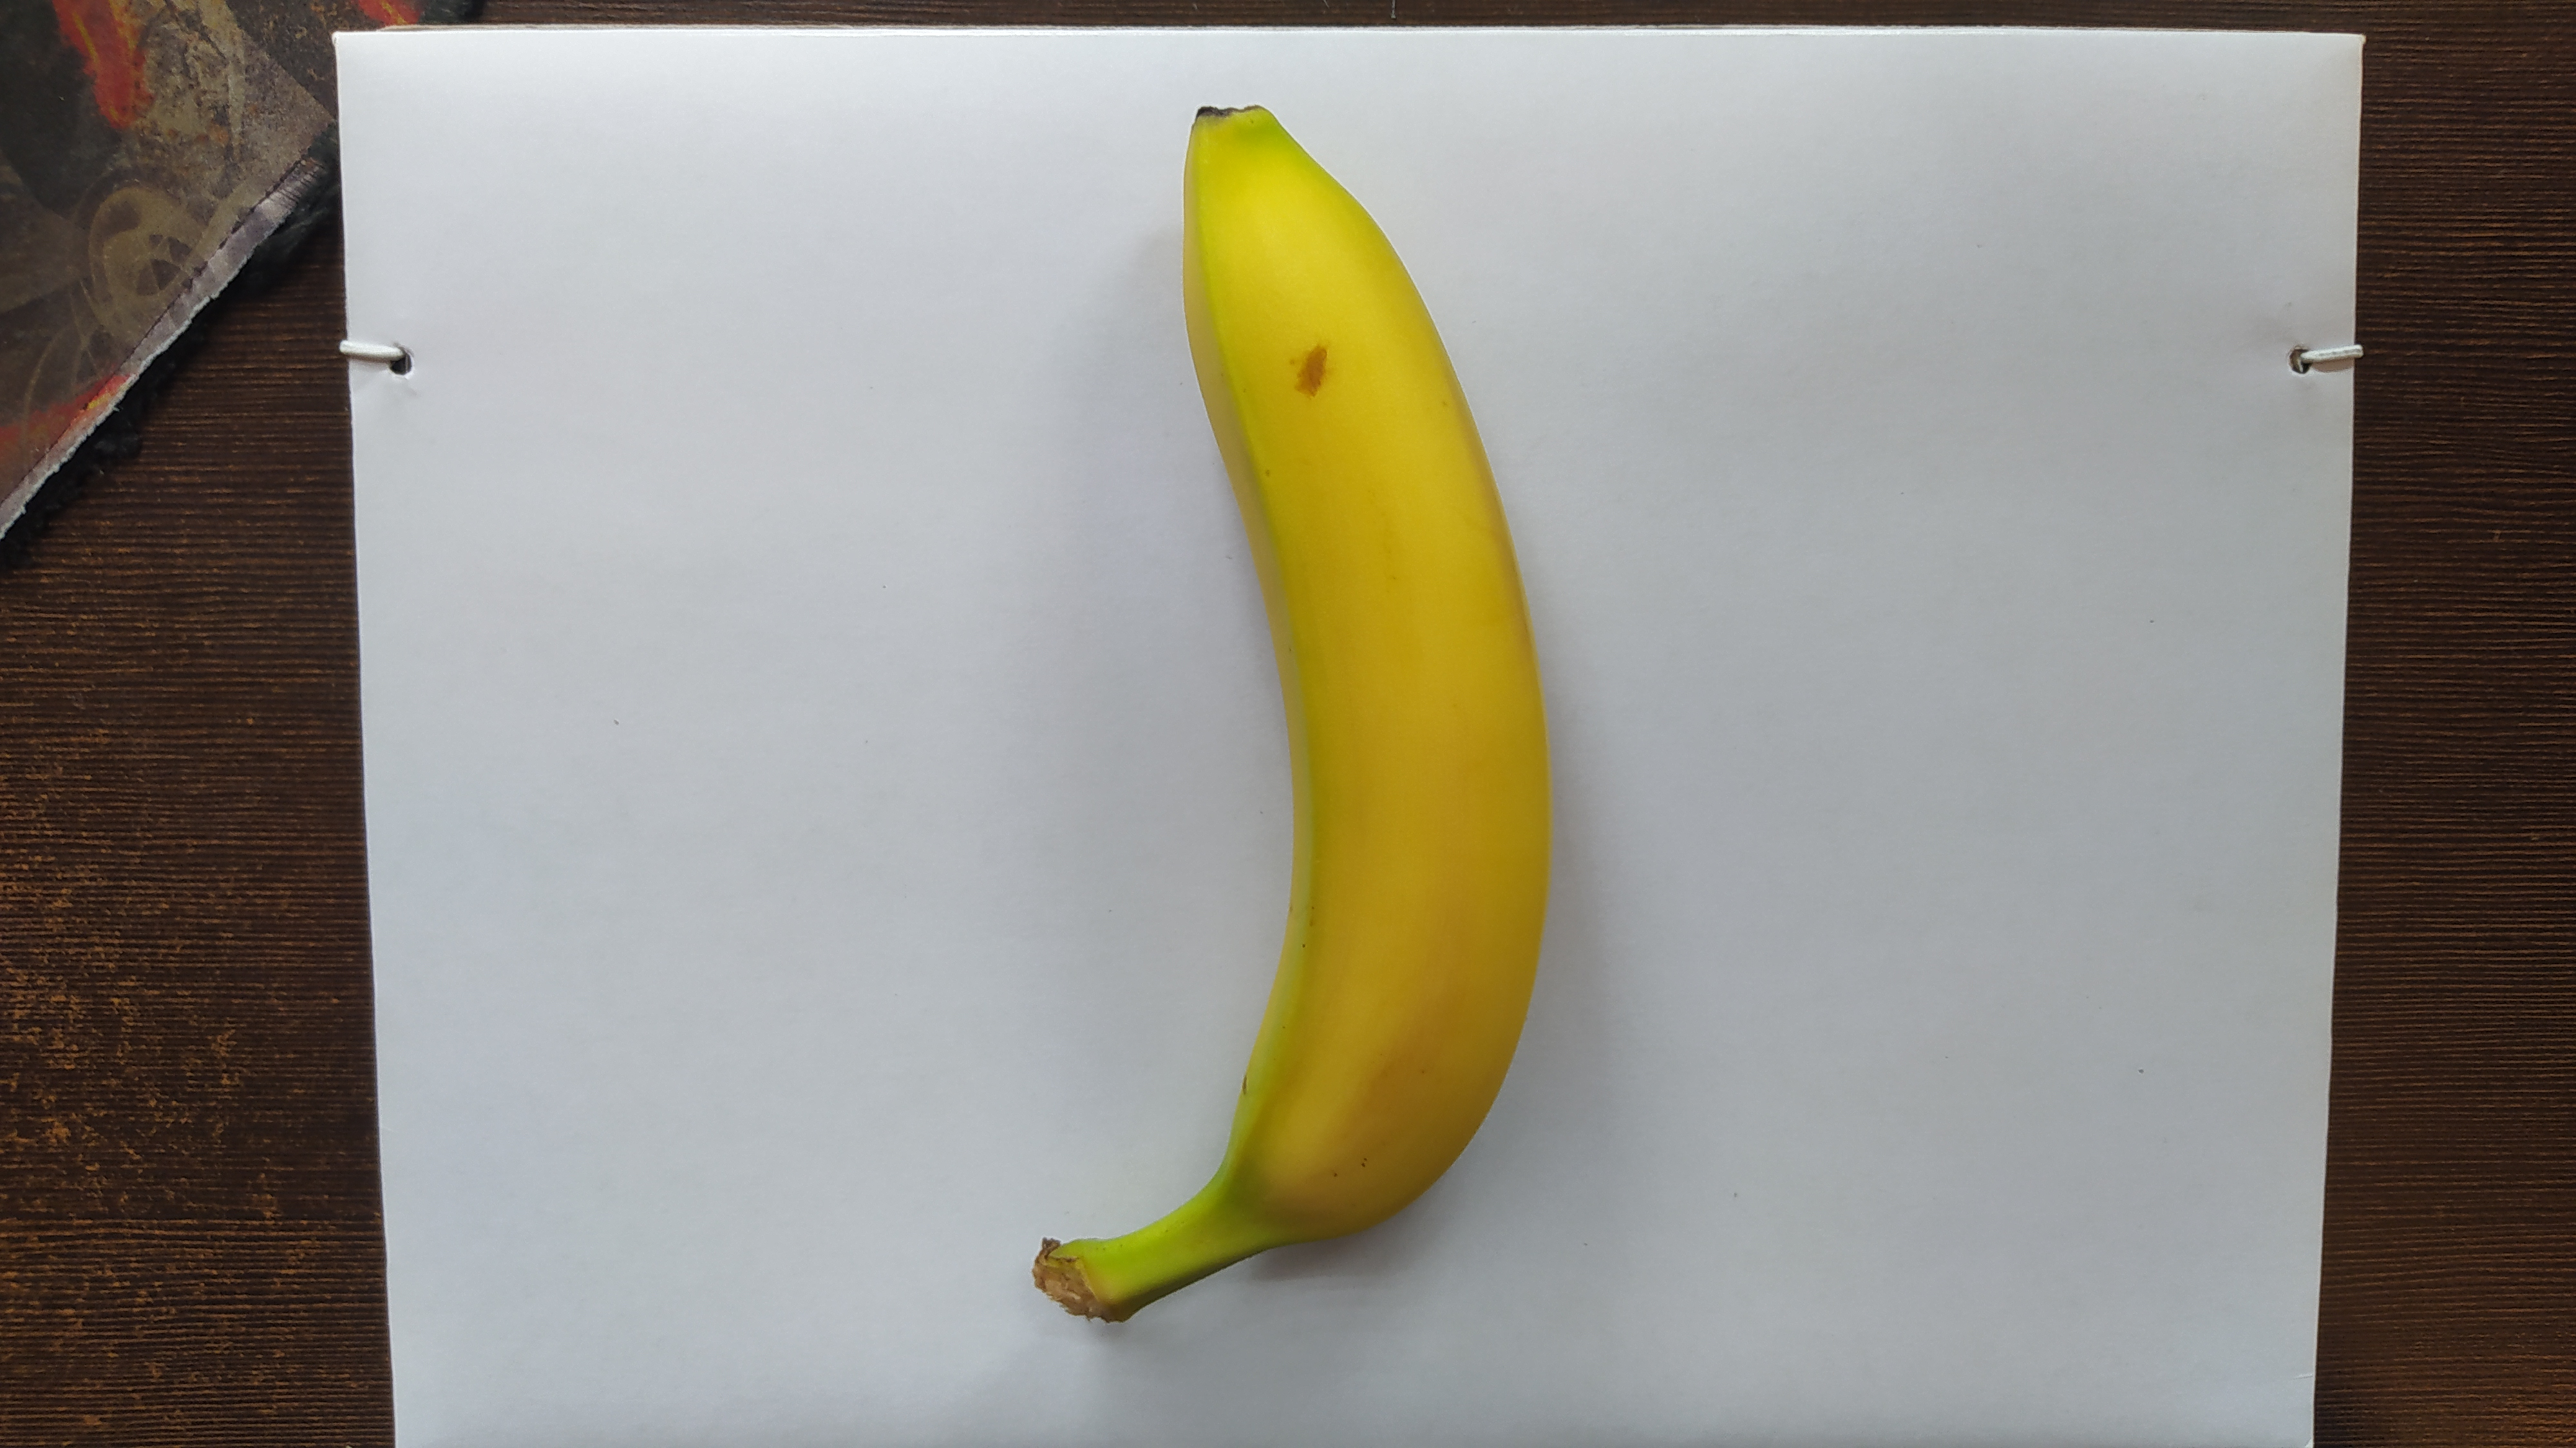banana: (1026, 101, 1555, 1328)
